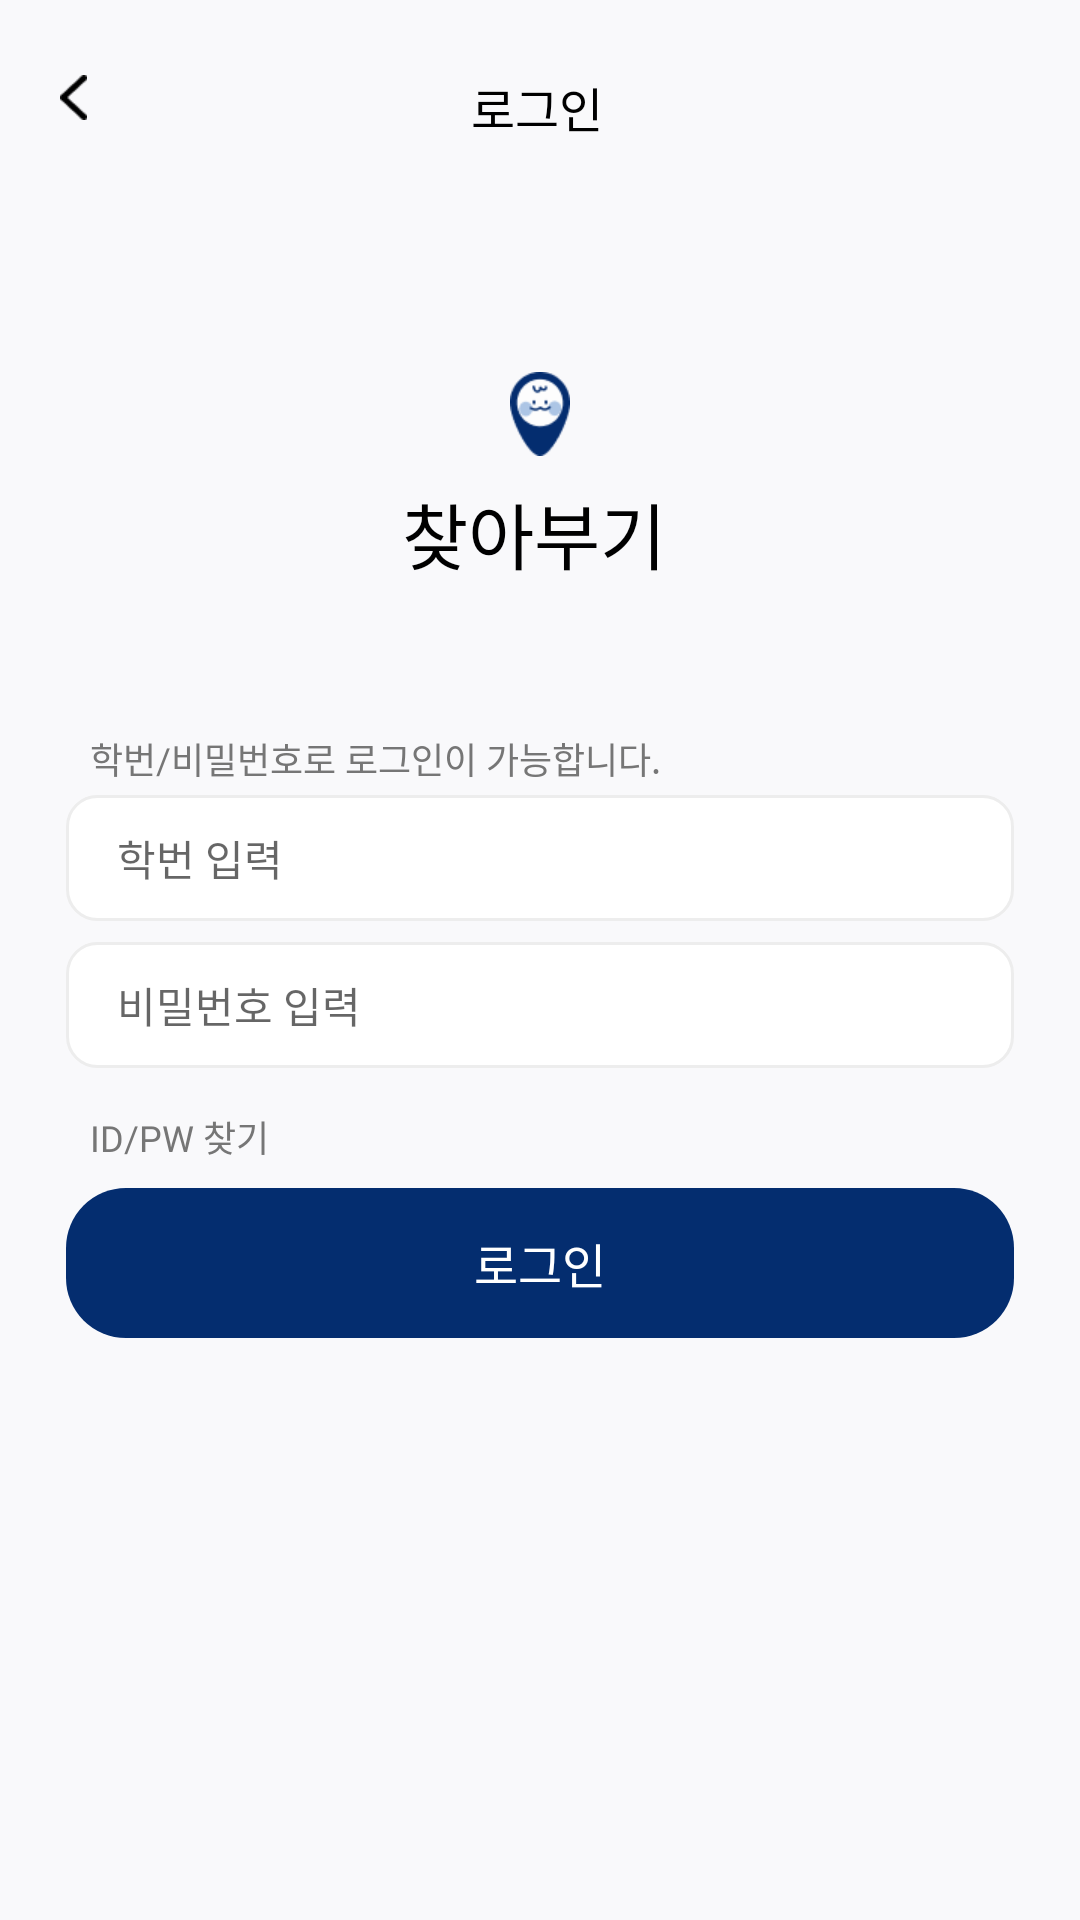

Named icons in this screenshot (1080w x 1920h) and their centers, (x=x, y=y):
back: (x=73, y=97)
ping: (x=540, y=414)
